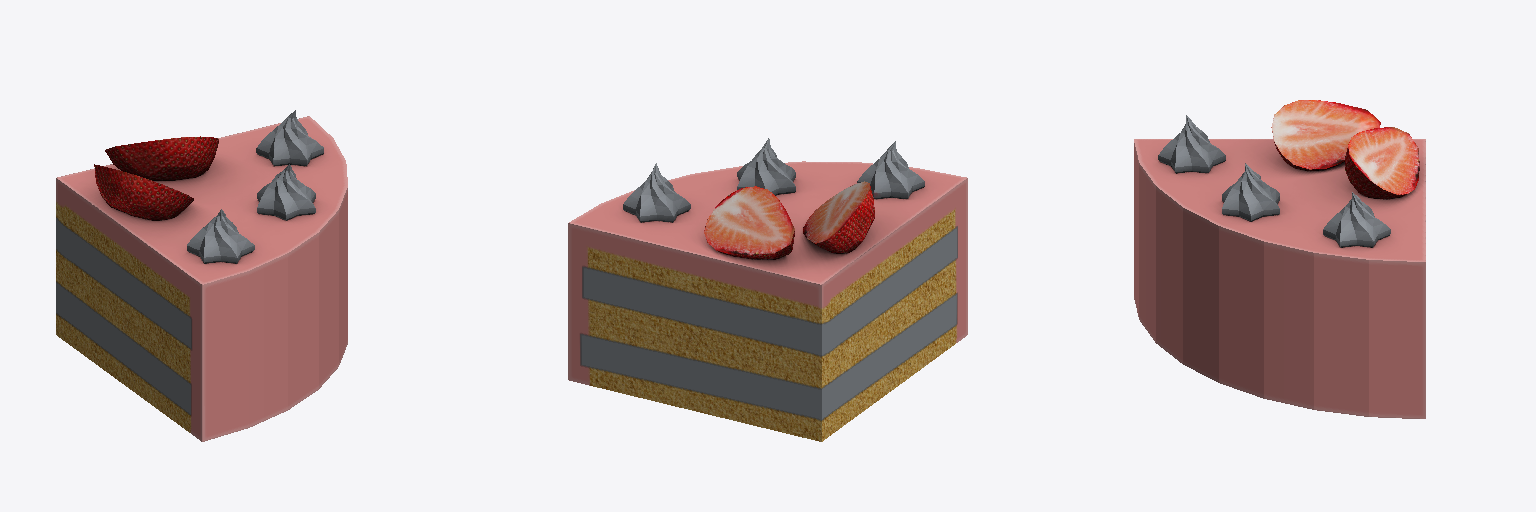
The picture shows the model from 3 angles: view 1: azimuth 30°, elevation 25°; view 2: azimuth 150°, elevation 25°; view 3: azimuth 270°, elevation 25°; orthographic projection.
Parts seen in each view (by area): view 1: piece_of_cake; view 2: piece_of_cake; view 3: piece_of_cake.
Boxes of the visible parts, x1=… form: piece_of_cake: x1=56, y1=110, x2=347, y2=441; piece_of_cake: x1=568, y1=138, x2=967, y2=441; piece_of_cake: x1=1134, y1=100, x2=1425, y2=418.
Size of the model in its own units: 33.68 by 25.8 by 33.68.
Materials: 1 (1 with a texture image).